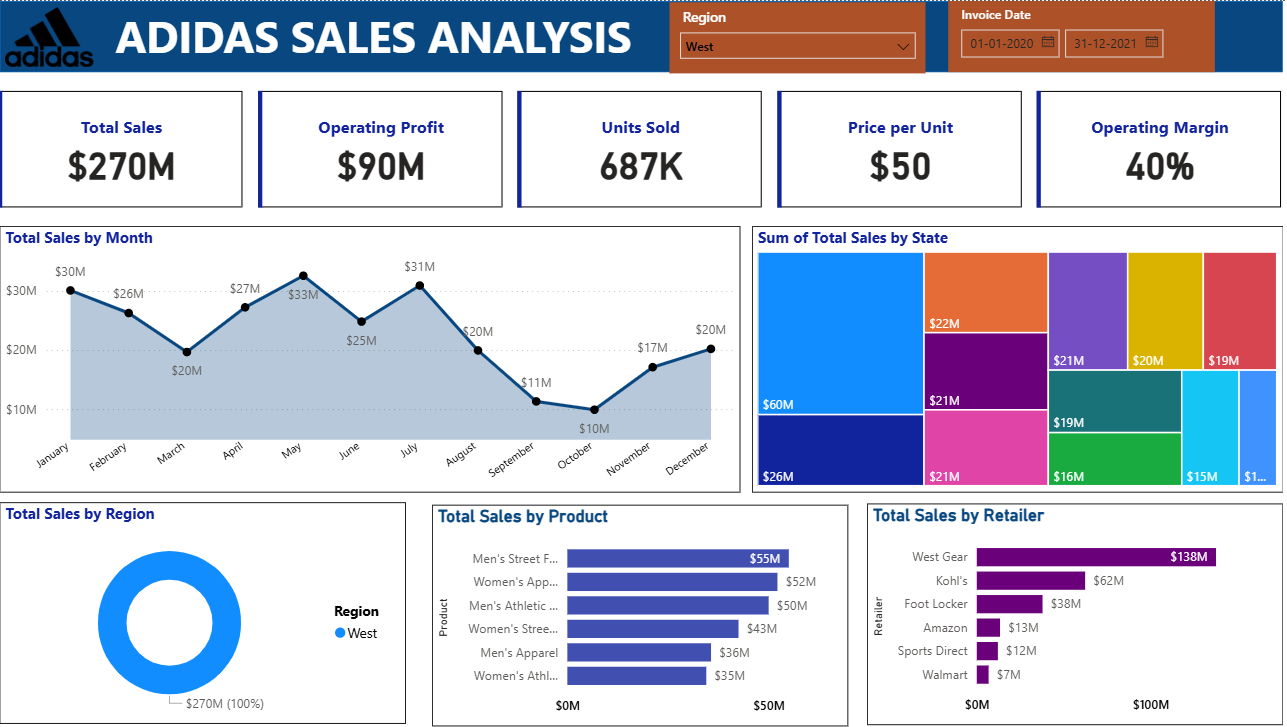

This screenshot's page, from the dashboard's own definition file:
{"tool":"powerbi","page":{"name":"Page 1","canvas":[1280,720],"ordinal":0},"visuals":[{"type":"shape","box":[12.3,0,1255.6,70],"z":0},{"type":"textbox","box":[108.8,0,558.8,69.7],"z":1000},{"type":"cardVisual","fields":{"Data":["Sum(Adidas US Sales Datasets.Total Sales)","Sum(Adidas US Sales Datasets.Operating Profit)","Sum(Adidas US Sales Datasets.Units Sold)","Avg(Adidas US Sales Datasets.Price per Unit)","Avg(Adidas US Sales Datasets.Operating Margin)"]},"box":[6.1,83.2,1268.1,124.7],"z":2000},{"type":"areaChart","title":"Total Sales by Month","fields":{"Category":["Adidas US Sales Datasets.Invoice Date.Variation.Date Hierarchy.Month"],"Y":["Sum(Adidas US Sales Datasets.Total Sales)"]},"box":[12.2,220.1,725.1,260.5],"z":3000},{"type":"treemap","fields":{"Group":["Adidas US Sales Datasets.State"],"Values":["Sum(Adidas US Sales Datasets.Total Sales)"]},"box":[748.4,220.1,519.7,260.5],"z":4000},{"type":"donutChart","title":"Total Sales by Region","fields":{"Category":["Adidas US Sales Datasets.Region"],"Y":["Sum(Adidas US Sales Datasets.Total Sales)"]},"box":[12.2,490.4,397.4,216.4],"z":5000},{"type":"barChart","title":" Total Sales by Product","fields":{"Category":["Adidas US Sales Datasets.Product"],"Y":["Sum(Adidas US Sales Datasets.Total Sales)"]},"box":[435.3,492.8,407.2,216.4],"z":6000},{"type":"barChart","title":"Total Sales by Retailer","fields":{"Y":["Sum(Adidas US Sales Datasets.Total Sales)"],"Category":["Adidas US Sales Datasets.Retailer"]},"box":[860.9,491.6,407.2,216.4],"z":7000},{"type":"slicer","fields":{"Values":["Adidas US Sales Datasets.Region"]},"box":[667.7,1.2,250.7,69.7],"z":8000},{"type":"slicer","fields":{"Values":["Adidas US Sales Datasets.Invoice Date"]},"box":[940.4,0,260.5,69.7],"z":9000},{"type":"image","box":[0,1.2,121.1,68.5],"z":10000}]}

Visuals, with their boxes in screenshot pixels (x1, y1, x2, y2), scaled from the page's 1280x720 canvas onto the 1287x727 screenshot:
shape: bbox=[12, 0, 1275, 71]
textbox: bbox=[109, 0, 671, 70]
cardVisual - Sum(Adidas US Sales Datasets.Total Sales) x Sum(Adidas US Sales Datasets.Operating Profit): bbox=[6, 84, 1281, 210]
"Total Sales by Month" areaChart: bbox=[12, 222, 741, 485]
treemap - Adidas US Sales Datasets.State x Sum(Adidas US Sales Datasets.Total Sales): bbox=[752, 222, 1275, 485]
"Total Sales by Region" donutChart: bbox=[12, 495, 412, 714]
" Total Sales by Product" barChart: bbox=[438, 498, 847, 716]
"Total Sales by Retailer" barChart: bbox=[866, 496, 1275, 715]
slicer - Adidas US Sales Datasets.Region: bbox=[671, 1, 923, 72]
slicer - Adidas US Sales Datasets.Invoice Date: bbox=[946, 0, 1207, 70]
image: bbox=[0, 1, 122, 70]
